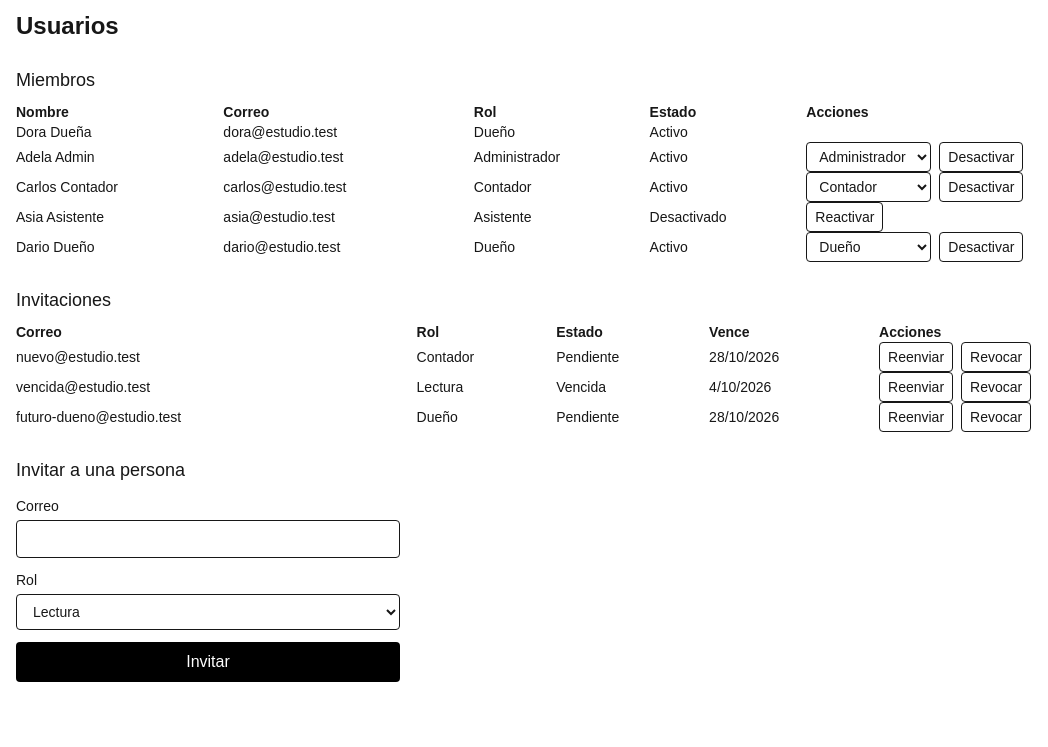
Test: /usuarios › invitar: POST /api/invitaciones {correo, rol} con X-CSRF-Token; mensaje, campo vacío y recarga
Type "otra@estudio.test" into the field labelled "Correo" at (208,539), box [16,520,400,558]
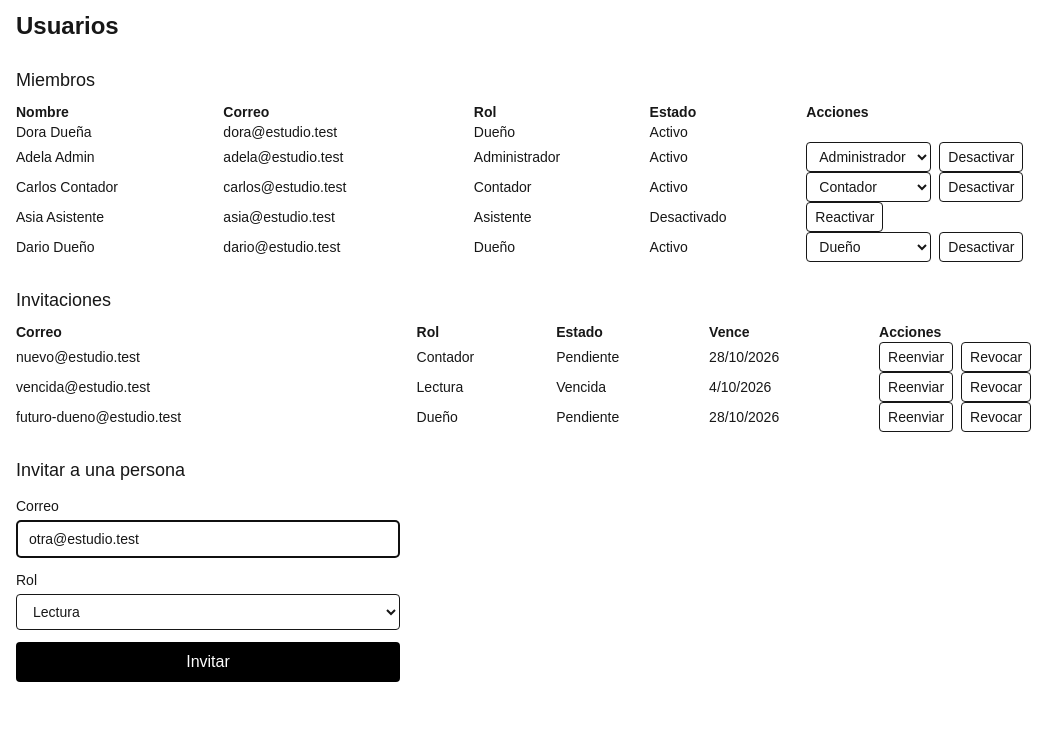
Select "Asistente" in the dropdown labelled "Rol" at (208,612), box [16,594,400,630]
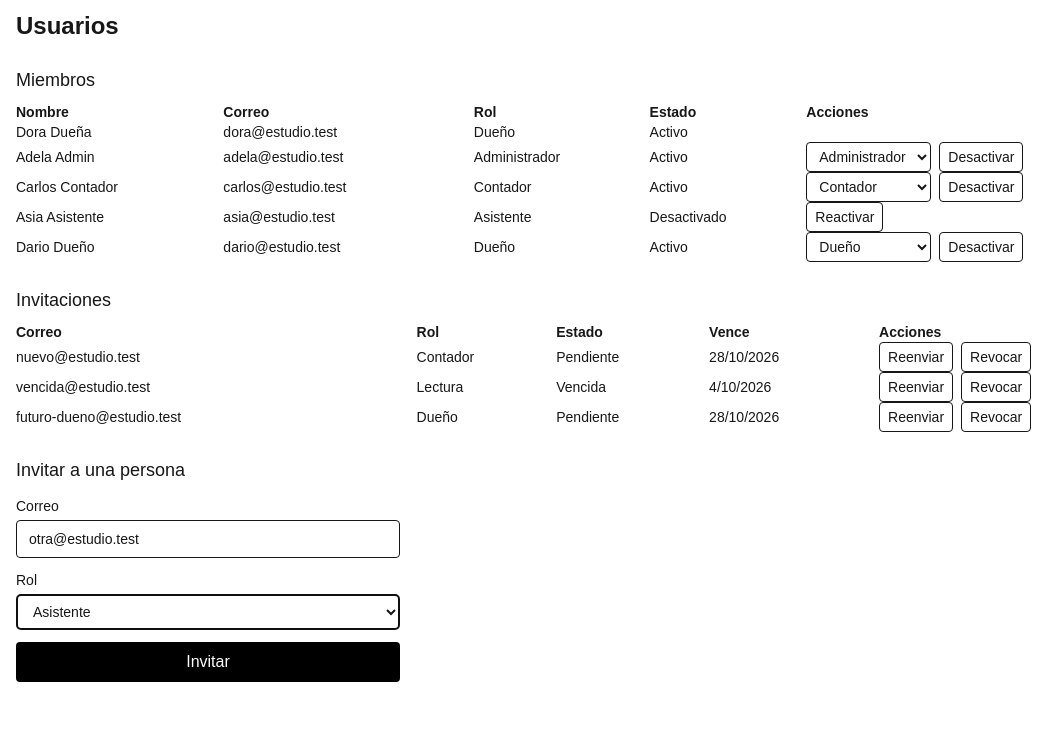
Click the button "Invitar" at (208,662), box [16,642,400,682]
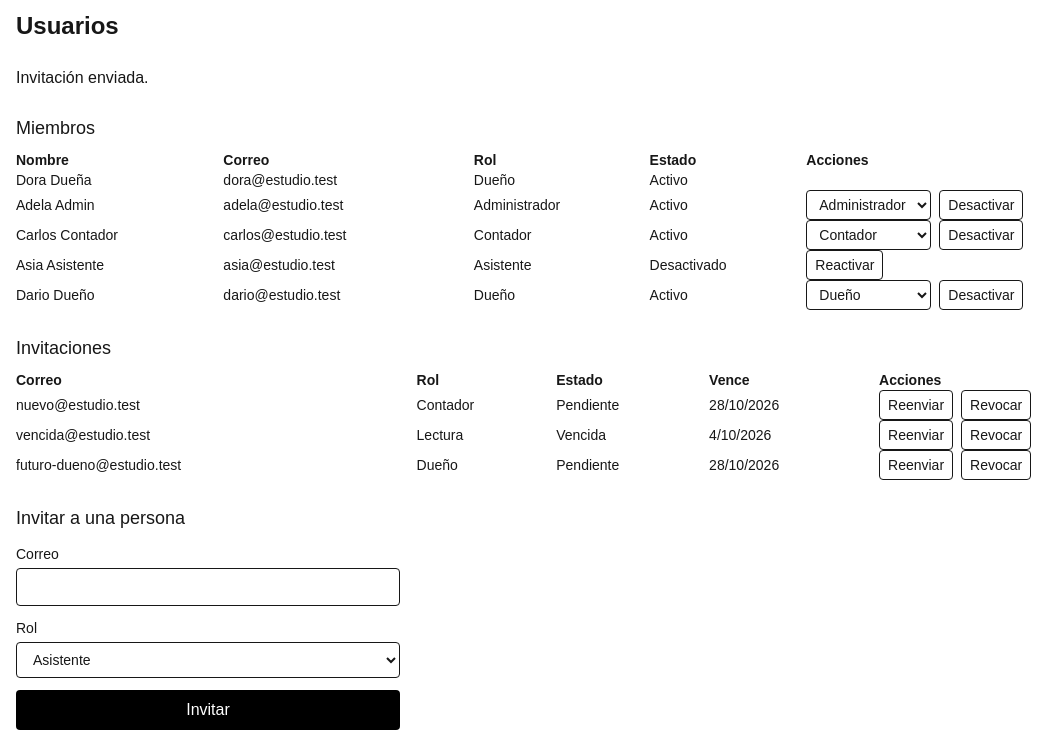
Expected: the text "Invitación enviada." is shown, [16,69,148,86]
Expected: the field labelled "Correo" is empty, [16,568,400,606]
